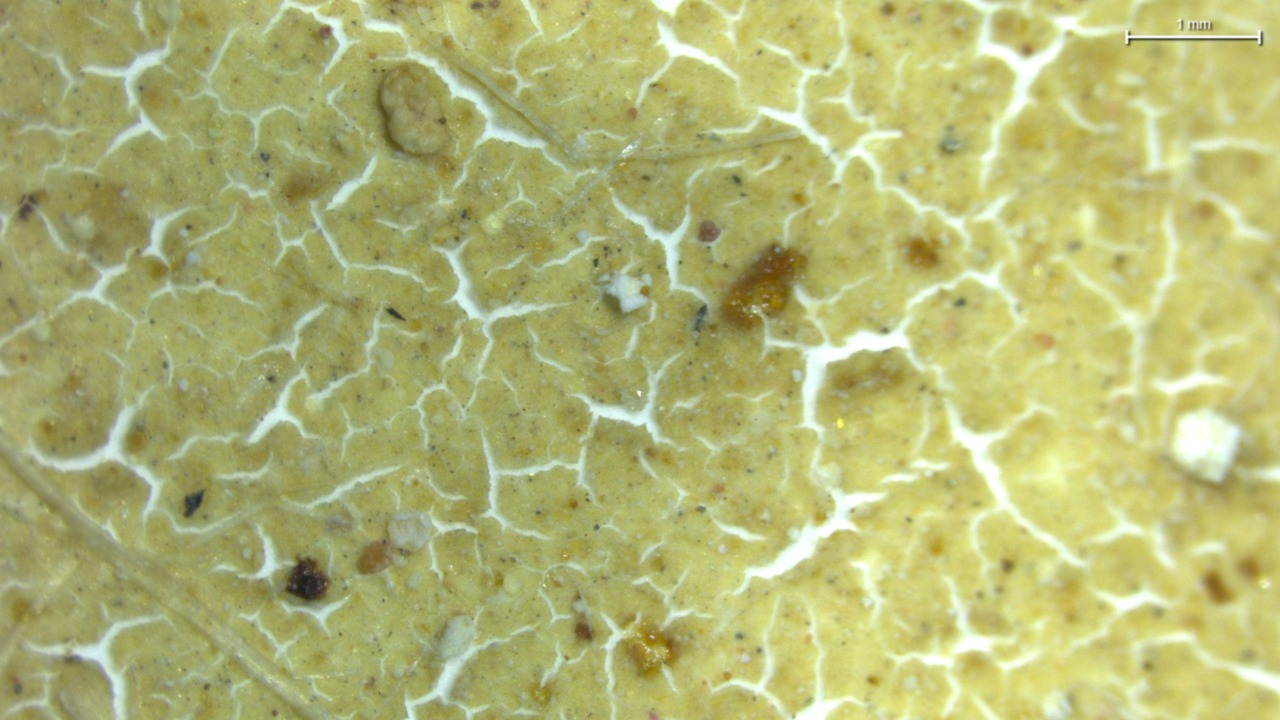microplastic_fragment: (374, 63, 458, 163), (1171, 409, 1240, 487), (388, 509, 434, 554), (609, 269, 647, 312)
